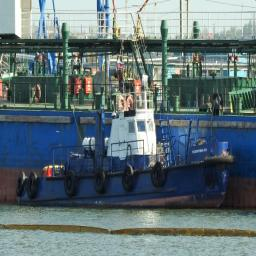tugboat: (15, 73, 240, 219)
